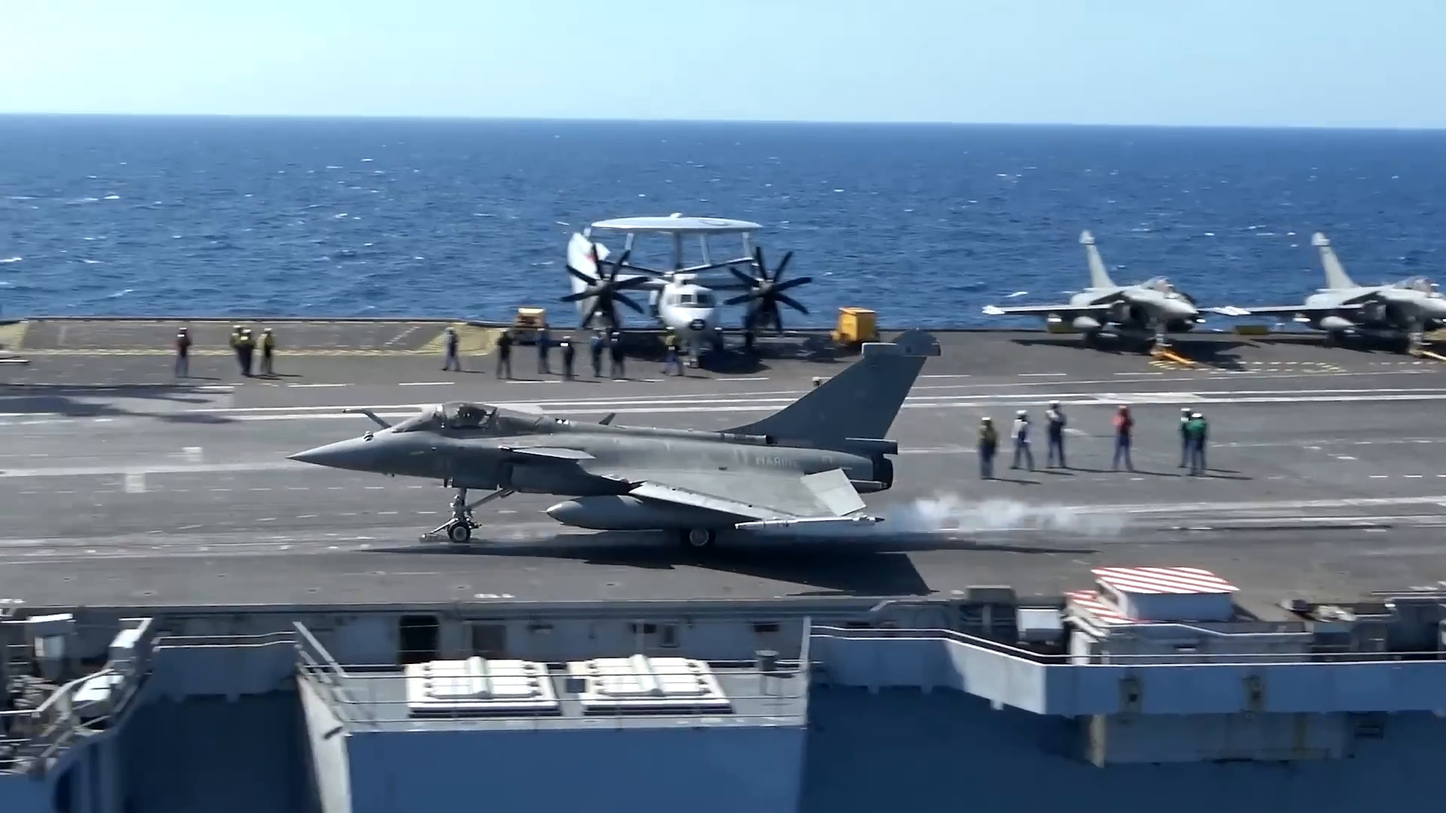Rafale: (285, 331, 941, 549), (985, 229, 1278, 348), (1222, 234, 1446, 351)
